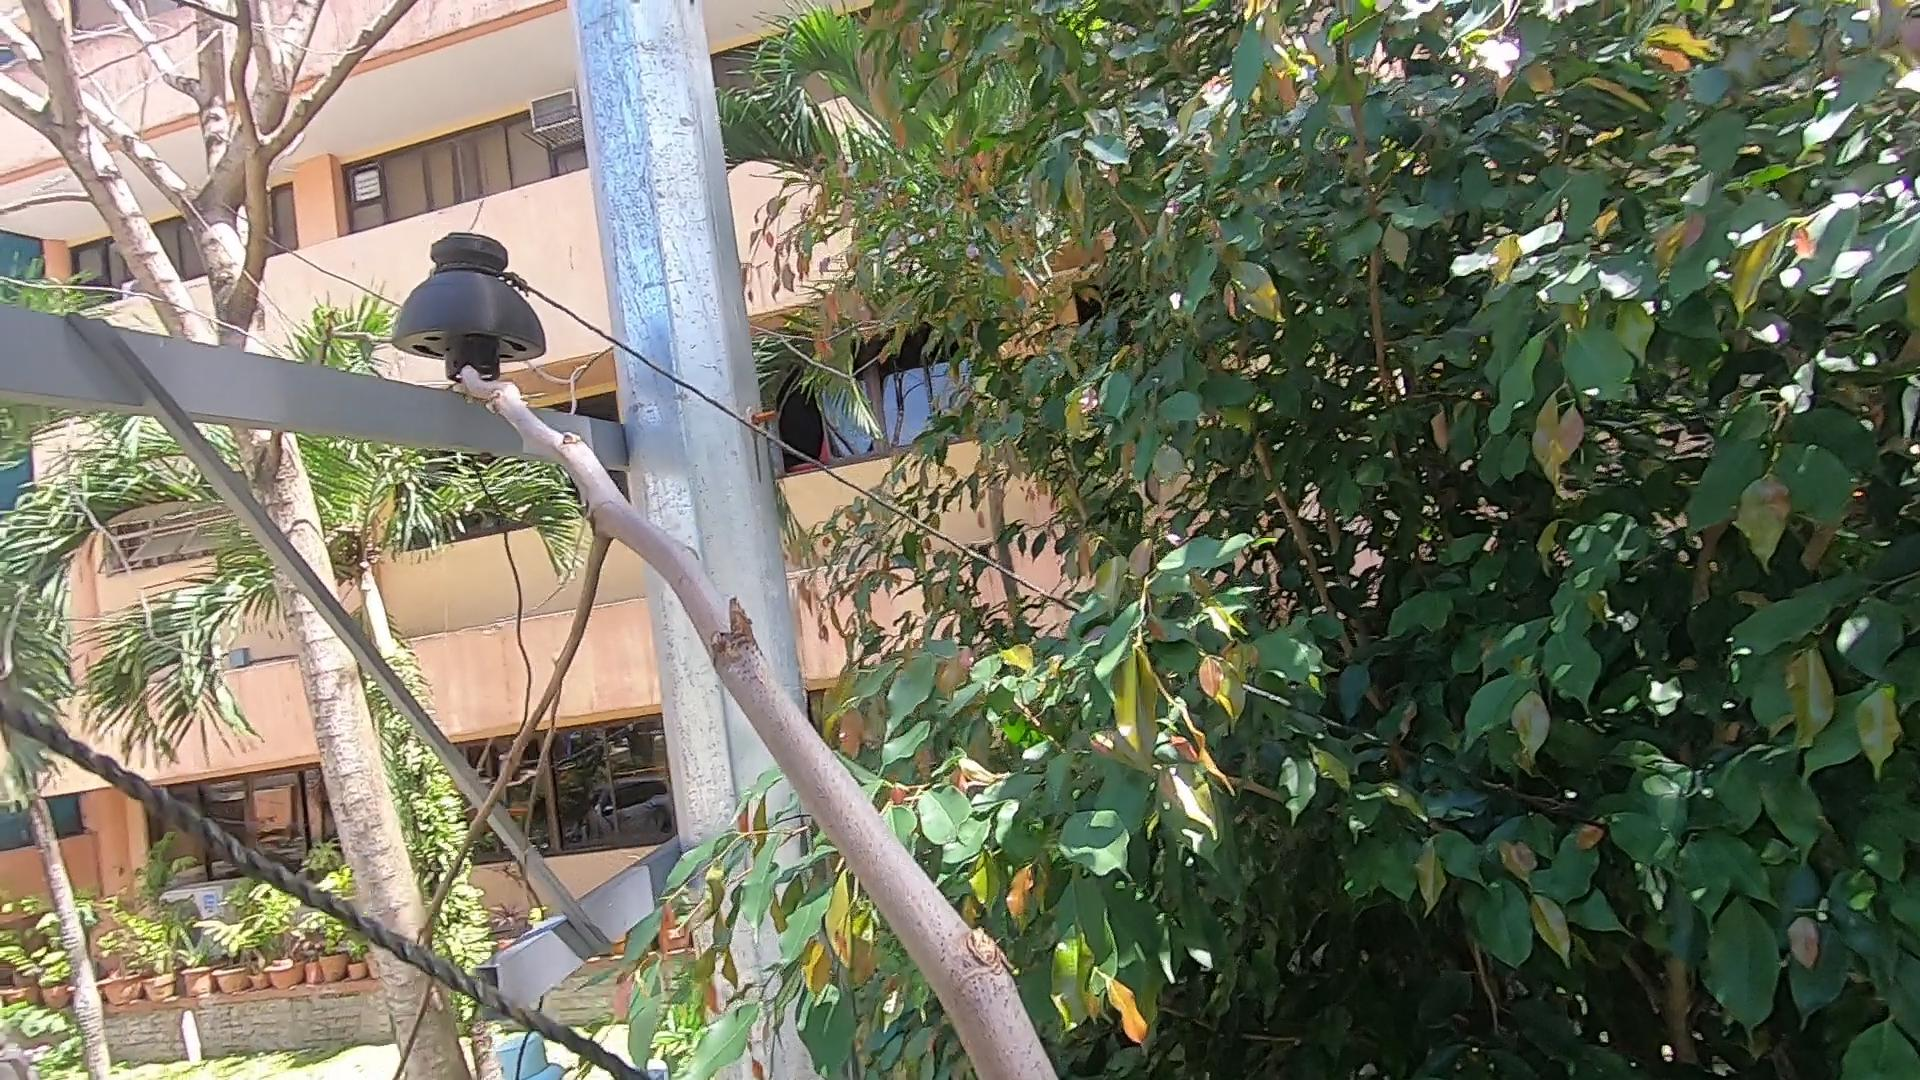branch with leaves: (618, 836, 876, 1080)
tree branch: (295, 200, 1089, 1080)
